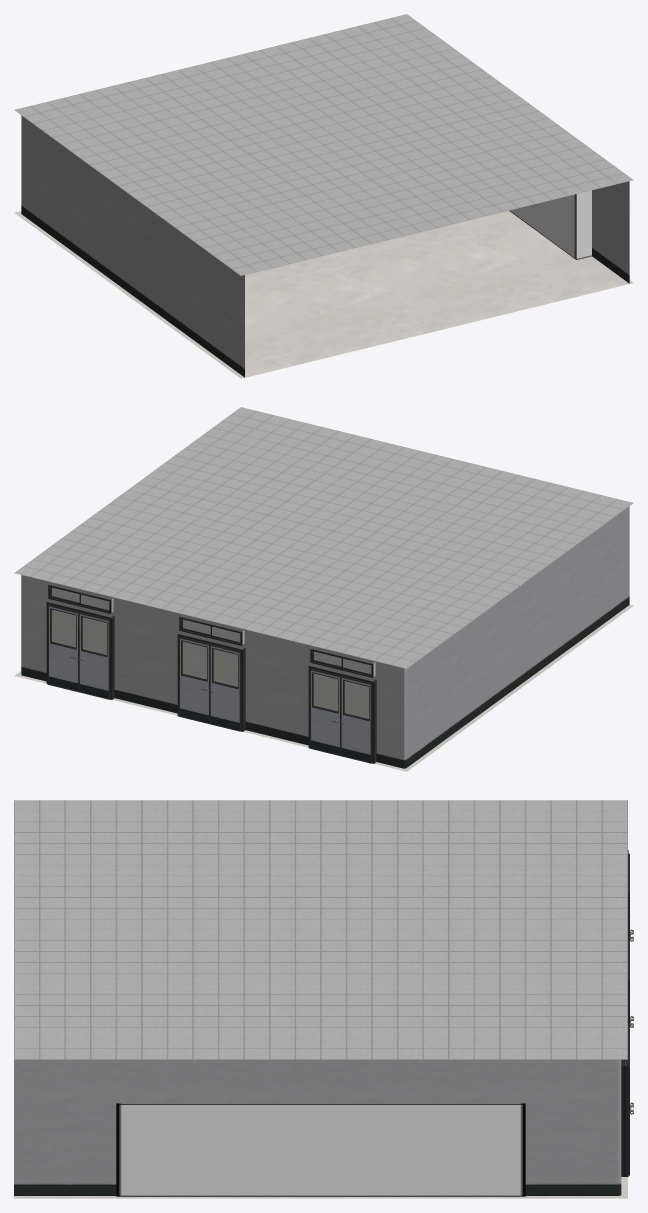
Rendered from Entrance.fbx.
3 renders of one model, top to bottom at view 1: azimuth 30°, elevation 25°; view 2: azimuth 150°, elevation 25°; view 3: azimuth 270°, elevation 25°, orthographic. The views are drawn at different scales.
Visible parts, largest first — view 1: Ceiling (×9), Marble_Floor (×6), Wall (×3), Wall_Half, Wall_L_Half, ShoeLockers; view 2: Ceiling (×9), Wall_Half (×3), Door_01 (×6), Wall (×2), Wall_L_Half (×2), Frame_Door_Sliding (×3), Marble_Floor; view 3: Ceiling (×9), ShoeLockers, Wall (×2), Wall_L_Half, Wall_Half, Marble_Floor (×3), Frame_Door_Sliding.
Part boxes in pixels (box(x1,y1,x2,y2)): Ceiling (×9): box(14, 14, 633, 275); Marble_Floor (×6): box(90, 210, 633, 378); Wall (×3): box(94, 168, 629, 377); Wall_Half: box(56, 141, 93, 266); Wall_L_Half: box(21, 115, 55, 238); ShoeLockers: box(509, 190, 591, 259); Ceiling (×9): box(14, 407, 633, 668); Wall_Half (×3): box(114, 598, 478, 745); Door_01 (×6): box(48, 604, 372, 763); Wall (×2): box(478, 506, 629, 714); Wall_L_Half (×2): box(21, 575, 440, 768); Frame_Door_Sliding (×3): box(46, 581, 376, 763); Marble_Floor: box(276, 715, 482, 771); Ceiling (×9): box(14, 800, 627, 1059); ShoeLockers: box(116, 1103, 525, 1196); Wall (×2): box(14, 1059, 423, 1195); Wall_L_Half: box(525, 1059, 621, 1195); Wall_Half: box(423, 1059, 525, 1103); Marble_Floor (×3): box(14, 1177, 627, 1198); Frame_Door_Sliding: box(621, 1023, 628, 1176).
Size of the model in its own units: 12 by 3 by 12.12.
8 materials, 8 textured.
